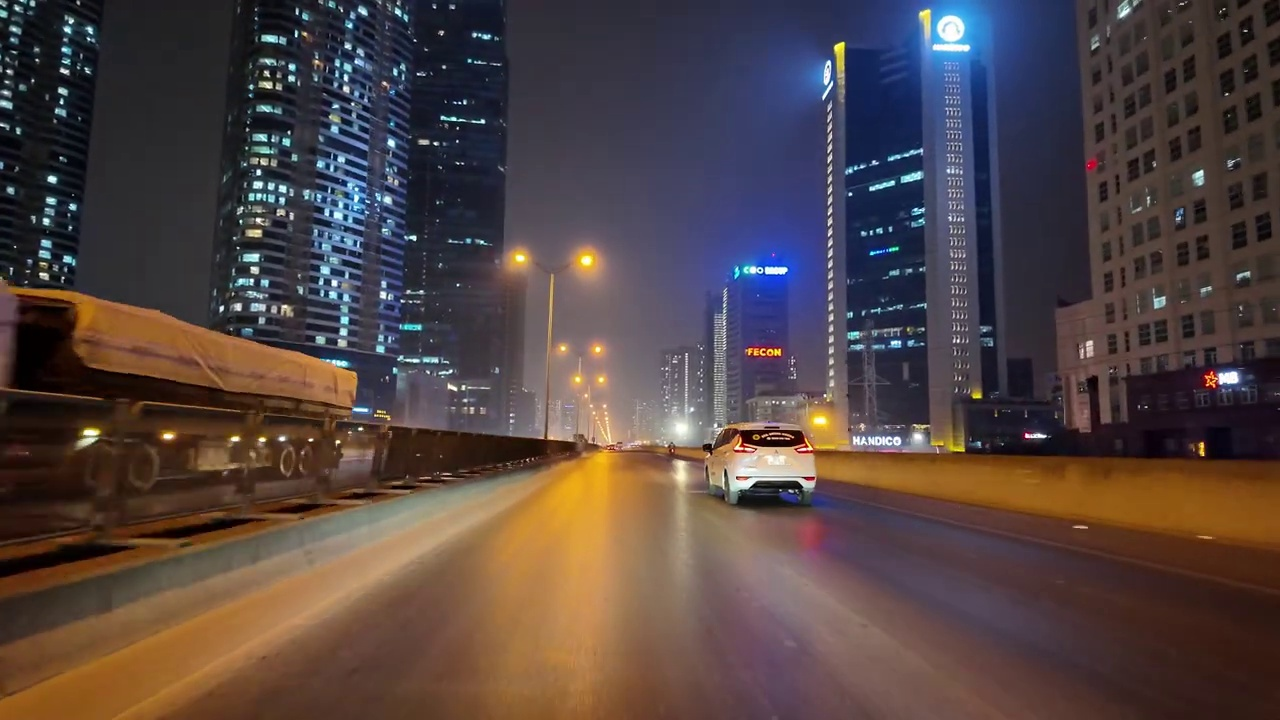acesa: (571, 246, 603, 277), (505, 246, 533, 274), (588, 340, 609, 361)
